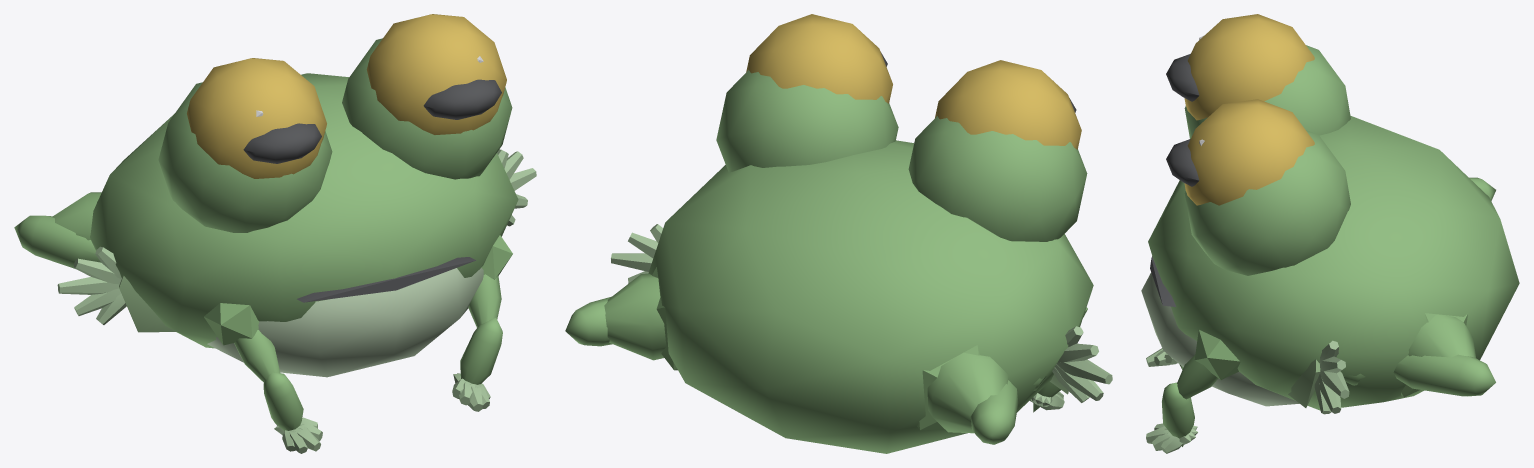
Rendered from hylarana-erythraea.glb.
3 renders of one model, left to right at view 1: azimuth 30°, elevation 25°; view 2: azimuth 150°, elevation 25°; view 3: azimuth 270°, elevation 25°, orthographic. The views are drawn at different scales.
Visible parts, largest first — view 1: body, belly, eyeballl, eyeballr, eyebumpr, eyebumpl, hind-r1, arm-l1, arm-r1, arm-r0, hind-r0, hind-r2 (+4 smaller); view 2: body, eyebumpr, eyebumpl, eyeballr, eyeballl, hind-r0, hind-l0, hind-r1, hind-l1, toeh2r, toeh3r, toeh2l (+1 smaller); view 3: body, eyebumpl, eyeballl, eyeballr, eyebumpr, belly, hind-l1, hind-l0, arm-l1, arm-l0, hind-l2, toeh2l (+1 smaller).
Part boxes in pixels (x1,y1,x2,y2): body: (90,73,518,348); belly: (207,267,483,377); eyeballl: (366,14,506,134); eyeballr: (187,58,326,178); eyebumpr: (158,82,332,232); eyebumpl: (342,38,512,179); hind-r1: (14,215,100,268); arm-l1: (460,318,502,384); arm-r1: (263,372,303,430); arm-r0: (234,330,280,382); hind-r0: (52,192,101,240); hind-r2: (119,276,176,332); body: (648,140,1093,453); eyebumpr: (908,116,1087,241); eyebumpl: (716,70,898,172); eyeballr: (935,60,1081,149); eyeballl: (746,14,892,103); hind-r0: (927,352,1008,433); hind-l0: (604,273,666,360); hind-r1: (970,380,1018,444); hind-l1: (565,296,612,346); toeh2r: (1055,359,1112,384); toeh3r: (1053,364,1103,400); toeh2l: (611,253,652,271); body: (1148,116,1519,410); eyebumpl: (1184,130,1350,275); eyeballl: (1166,99,1314,205); eyeballr: (1166,14,1314,120); eyebumpr: (1184,45,1350,138); belly: (1141,272,1299,406); hind-l1: (1393,354,1495,396); hind-l0: (1408,314,1475,357); arm-l1: (1162,382,1194,446); arm-l0: (1177,355,1218,399); hind-l2: (1288,359,1365,407); toeh2l: (1320,370,1349,398).
Bounding box in the file's own units: 0.7209 × 0.5163 × 0.5113.
